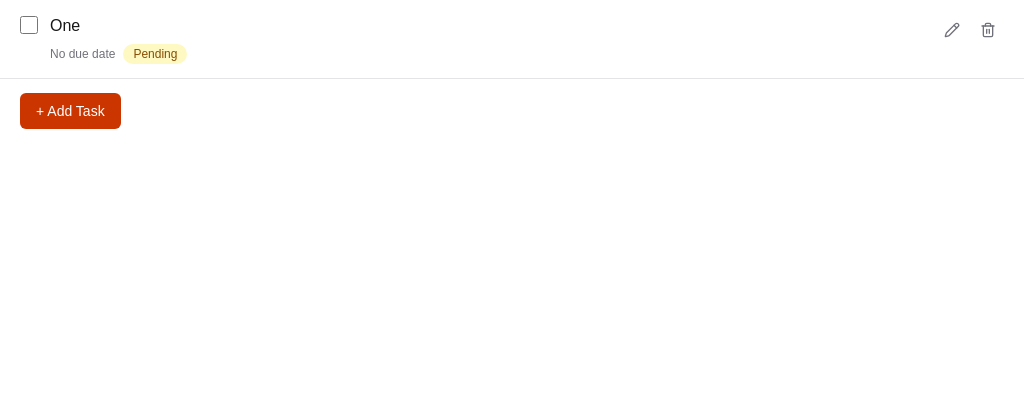
Test case: TaskList › opening the create form disables + Add Task and every Edit button (A31)
Click the button "+ Add Task" at point(70, 111), box [20,93,121,129]
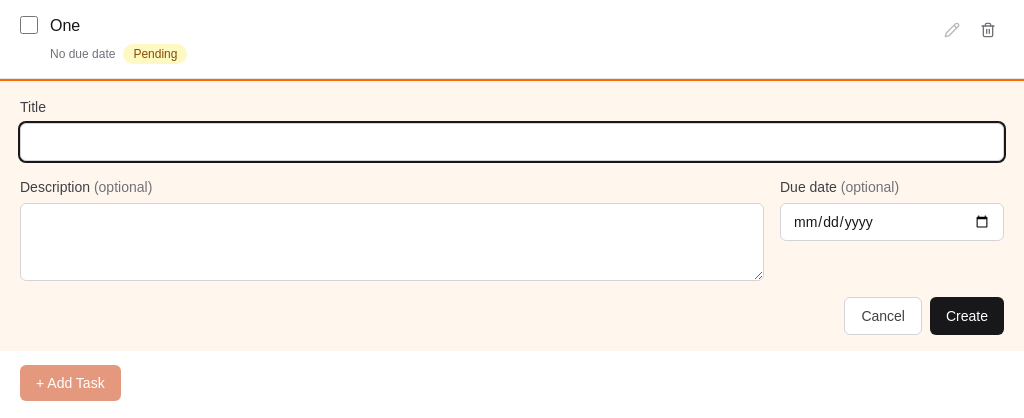
Check: the form named "Create task" is shown
Check: the button "+ Add Task" is disabled, box [20,365,121,401]
Check: the button named "Edit task: One" is disabled, box [936,14,968,46]
